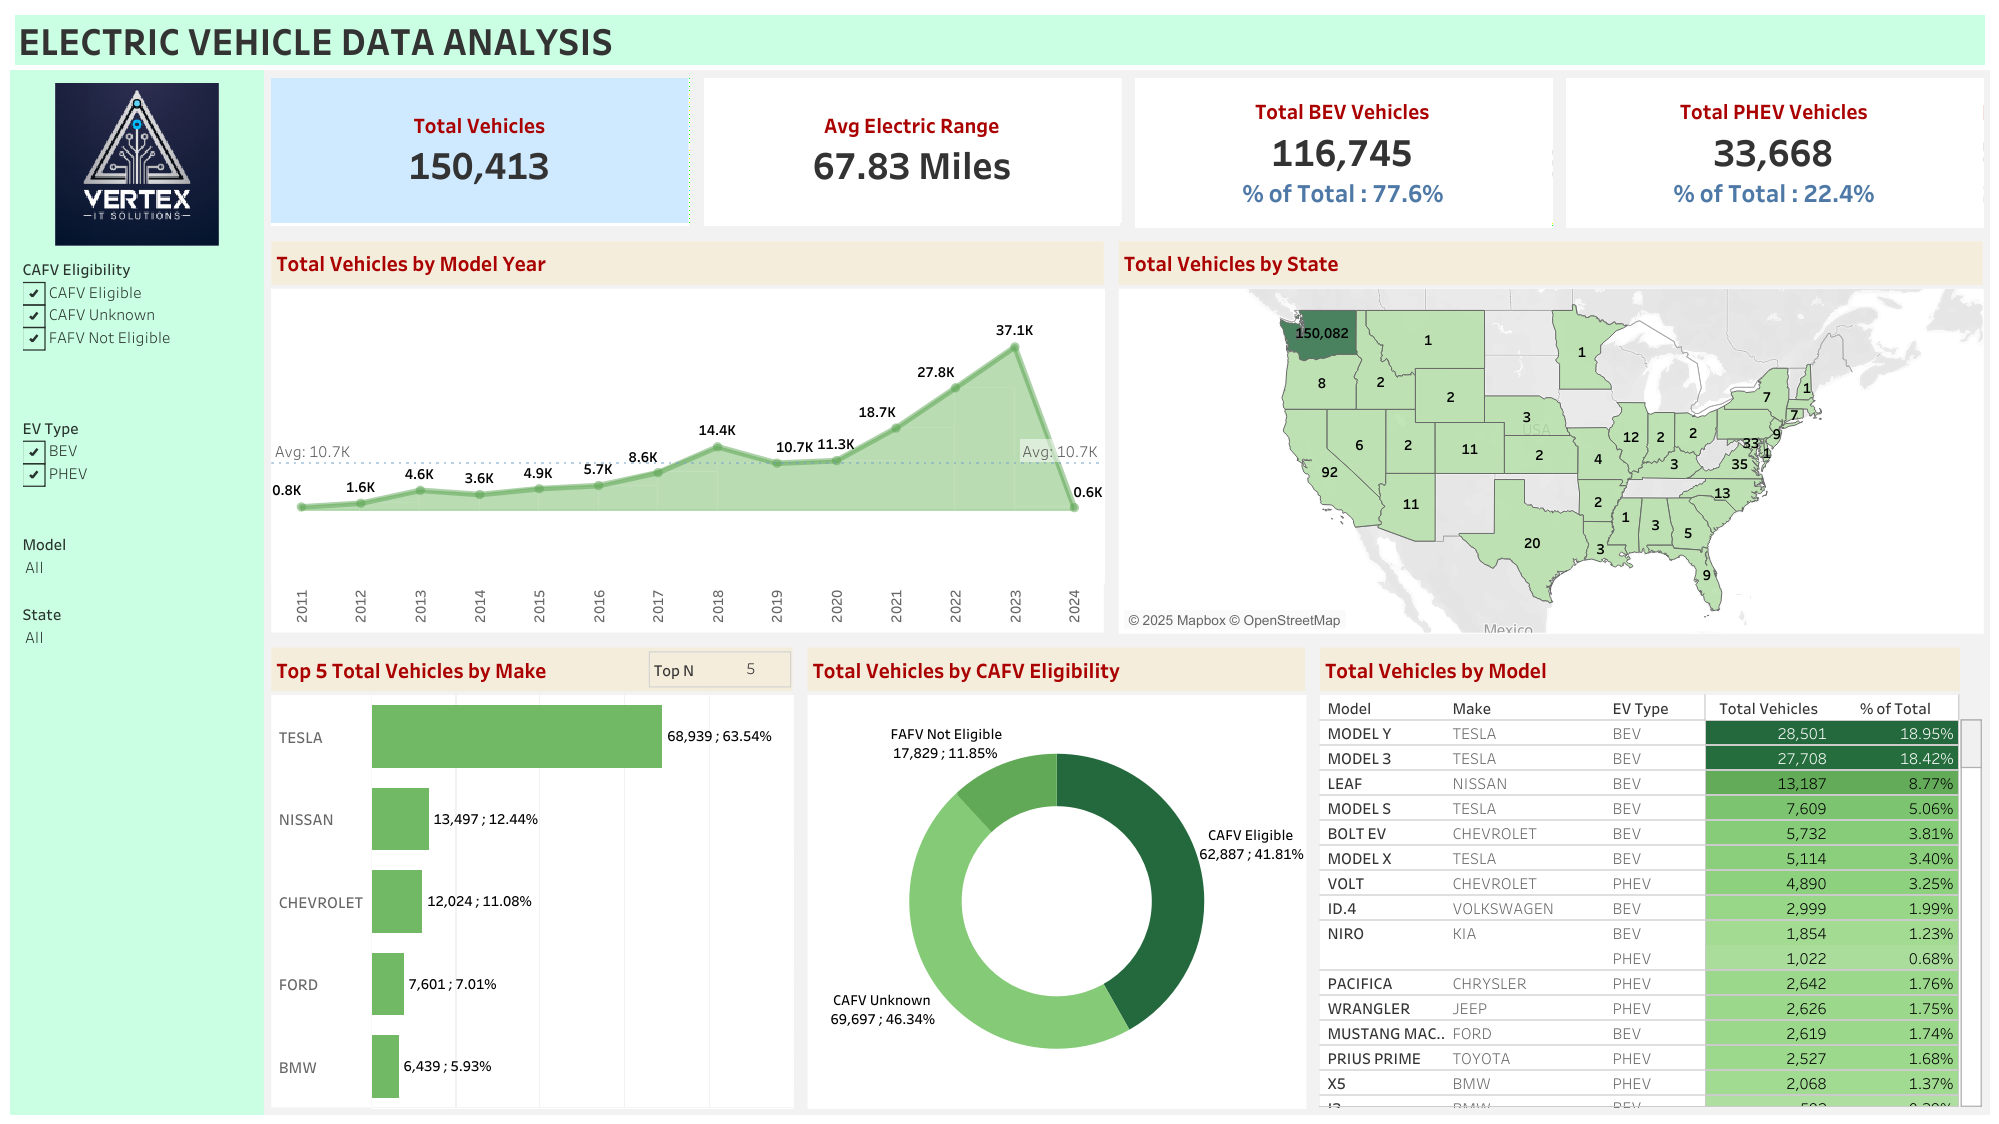

This screenshot's page, from the dashboard's own definition file:
{"tool":"tableau","page":{"name":"Dashboard 1","canvas":[1600,900],"ordinal":0},"visuals":[{"type":"title","box":[8,8,1584,48]},{"type":"worksheet","title":"Total Vehicles","mark":"Automatic","box":[211,56,346,131]},{"type":"worksheet","title":"Avg Electric Range","mark":"Automatic","box":[557,56,345,131]},{"type":"worksheet","title":"Total BEV Vehicles","mark":"Automatic","box":[902,56,345,131]},{"type":"worksheet","title":"Total PHEV Vehicles","mark":"Automatic","box":[1247,56,345,131]},{"type":"image","param":"D:/SQL/Tableau-Electric-Vehicle-Data-Analysis/Electric Vehicle Data Analysis.twb","box":[14,62,191,117]},{"type":"filter","title":"Total Vehicles by State","param":"[federated.1dqb5h30mslusi1dghefn0t8bmfp].[none:Clean Alternative Fuel Vehicle (C","box":[14,179,191,127]},{"type":"worksheet","title":"Total Vehicles by Model Year","mark":"Area","rows":["Calculation_1059471835644375040","Calculation_1059471835644375040"],"cols":["Model Year"],"box":[211,187,678,325]},{"type":"worksheet","title":"Total Vehicles by State","mark":"Automatic","box":[889,187,703,325]},{"type":"filter","title":"Total Vehicles by State","param":"[federated.1dqb5h30mslusi1dghefn0t8bmfp].[none:Electric Vehicle Type:nk]","box":[14,306,191,105]},{"type":"filter","title":"Total Vehicles by State","param":"[federated.1dqb5h30mslusi1dghefn0t8bmfp].[none:Model:nk]","box":[14,411,191,61]},{"type":"filter","title":"Total Vehicles by State","param":"[federated.1dqb5h30mslusi1dghefn0t8bmfp].[none:State:nk]","box":[14,472,191,61]},{"type":"worksheet","title":"Top 10 Total Vehicles by Make","mark":"Automatic","rows":["Make"],"cols":["Calculation_1059471835644375040"],"box":[211,512,429,380]},{"type":"worksheet","title":"Total Vehicles by CAFV Eligibility","mark":"Pie","rows":["Calculation_1059471835670454279","Calculation_1059471835670454279"],"box":[640,512,410,380]},{"type":"worksheet","title":"Total Vehicles by Model","mark":"Square","rows":["Model","Make","Electric Vehicle Type"],"box":[1050,512,542,380]},{"type":"parameter","param":"[Parameters].[Parameter 1]","box":[519,521,114,29]},{"type":"blank","box":[14,533,191,353]}]}

Visuals, with their boxes in screenshot pixels (x1, y1, x2, y2), scaled from the page's 1600x900 canvas onto the 1999x1124 screenshot:
title: 10,10,1989,70
"Total Vehicles" worksheet: 264,70,696,234
"Avg Electric Range" worksheet: 696,70,1127,234
"Total BEV Vehicles" worksheet: 1127,70,1558,234
"Total PHEV Vehicles" worksheet: 1558,70,1989,234
image: 17,77,256,224
"Total Vehicles by State" filter: 17,224,256,382
"Total Vehicles by Model Year" worksheet (Area marks): 264,234,1111,639
"Total Vehicles by State" worksheet: 1111,234,1989,639
"Total Vehicles by State" filter: 17,382,256,513
"Total Vehicles by State" filter: 17,513,256,589
"Total Vehicles by State" filter: 17,589,256,666
"Top 10 Total Vehicles by Make" worksheet: 264,639,800,1114
"Total Vehicles by CAFV Eligibility" worksheet (Pie marks): 800,639,1312,1114
"Total Vehicles by Model" worksheet (Square marks): 1312,639,1989,1114
parameter: 648,651,791,687
blank: 17,666,256,1107
